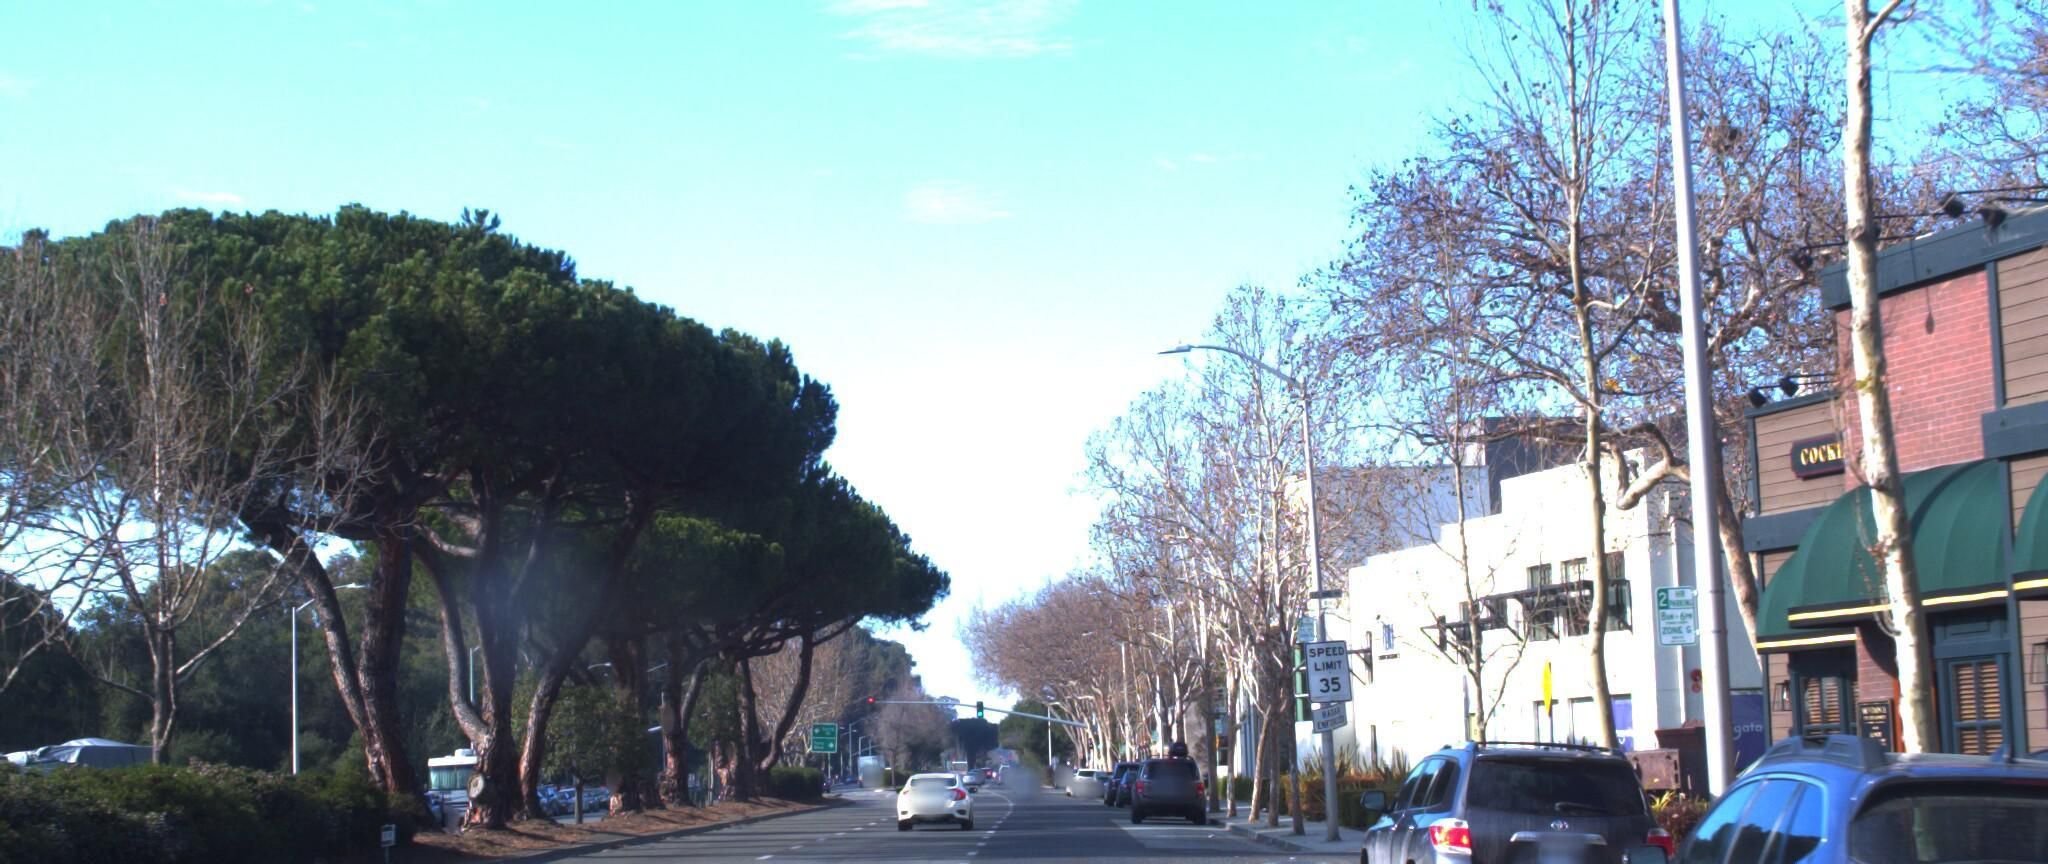car: (1571, 685, 2048, 864), (1337, 707, 1693, 864), (1122, 720, 1206, 812), (889, 750, 978, 817)
other_vehicle: (0, 715, 182, 861)
